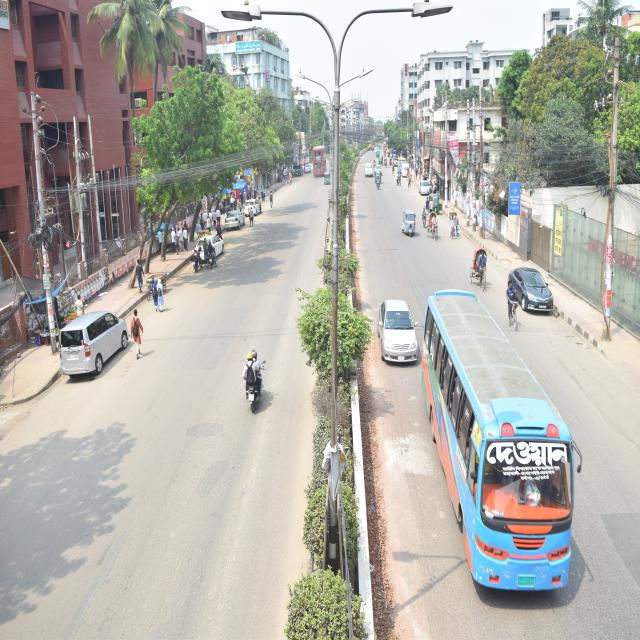bus: (417, 272, 598, 607), (311, 134, 329, 196)
car: (500, 246, 574, 352), (379, 284, 429, 396), (214, 194, 248, 244), (413, 166, 450, 205), (243, 183, 268, 226), (359, 157, 382, 180), (399, 150, 416, 180), (302, 156, 319, 180)
motorbike: (226, 320, 276, 417), (204, 228, 221, 287), (189, 239, 205, 295), (371, 168, 386, 198), (370, 157, 379, 174)
pickup-van: (289, 150, 310, 200)
